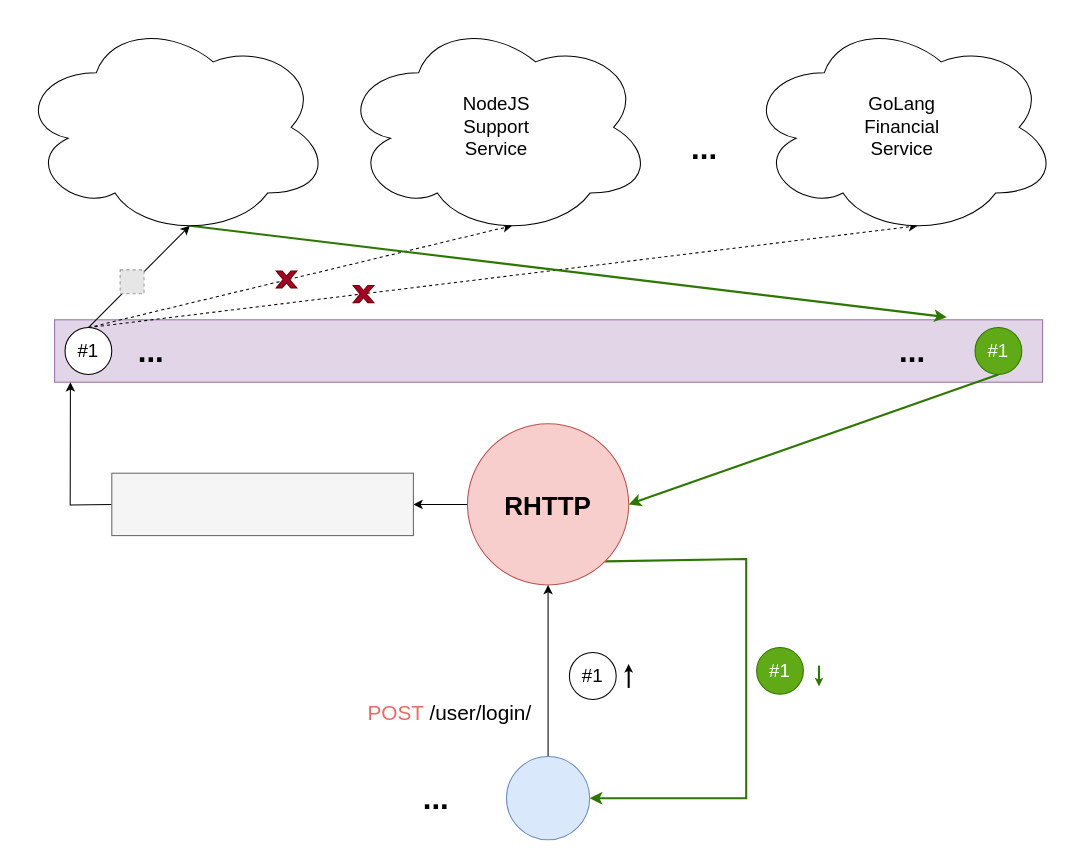
Image size: 1076x858. Some labels were removed from this diagram. Grey dashed boxes stand in for pictures. The box of each missing label's shape, as (x1, y1, x2, y2) in pixels:
client: (505, 756, 590, 840)
Django User management Service: (17, 17, 330, 237)
Redis: (54, 319, 1043, 382)
request #1 [post => /user/login/]: (111, 472, 413, 536)
